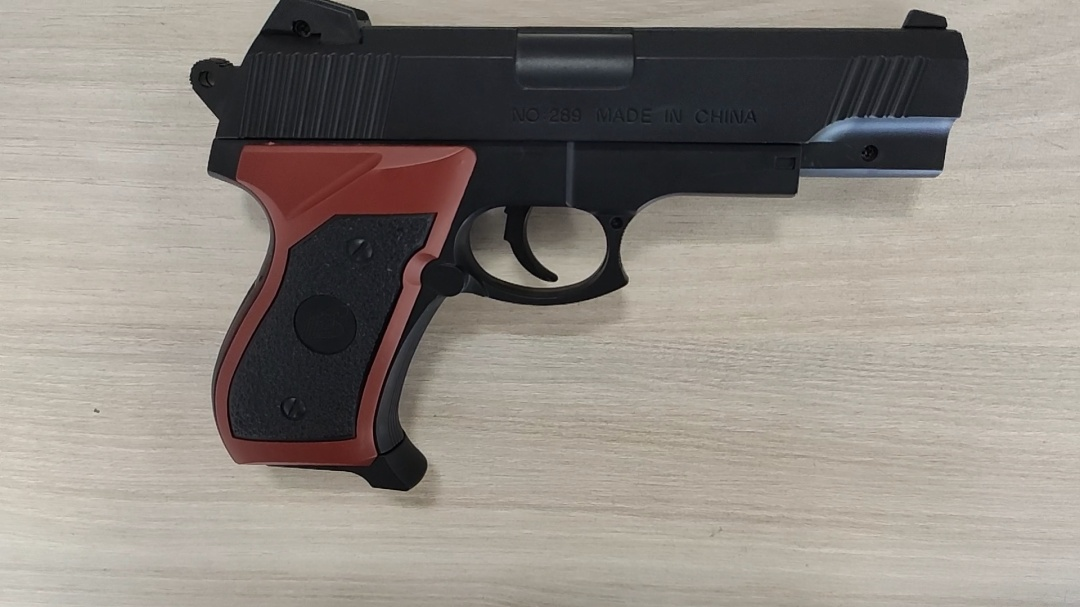gun: (491, 96, 641, 273)
